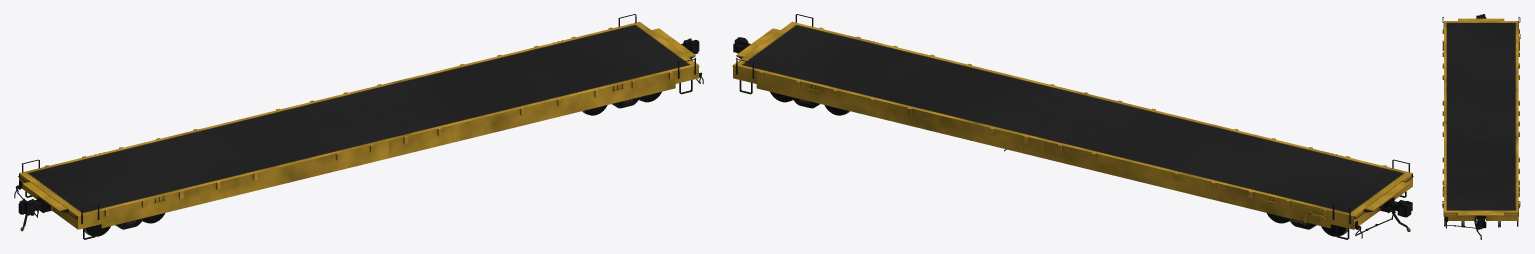
The model's file is attx_flatcar_1.obj.
3 views of the same model, side by side, from view 1: azimuth 30°, elevation 25°; view 2: azimuth 150°, elevation 25°; view 3: azimuth 270°, elevation 25° (orthographic). The views are drawn at different scales.
Parts seen in each view (by area): view 1: FRAME_Frame; view 2: FRAME_Frame; view 3: FRAME_Frame, BOGEY_REAR_WHEEL_2_Cylinder.006.
Boxes of the visible parts, x1,y1,x2,y2 form: FRAME_Frame: (14,14,703,239); FRAME_Frame: (732,14,1413,239); FRAME_Frame: (1442,14,1520,239); BOGEY_REAR_WHEEL_2_Cylinder.006: (1461,216,1500,227).
Size of the model in its own units: 20.22 by 1.36 by 3.2.
Materials: 8 (8 with a texture image).
